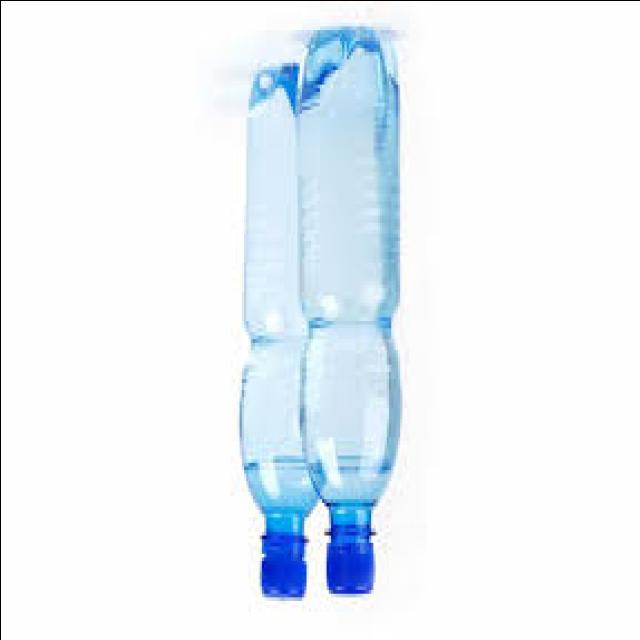bottom: (296, 22, 407, 140), (243, 58, 304, 137)
cap: (321, 513, 383, 605), (252, 510, 308, 605)
